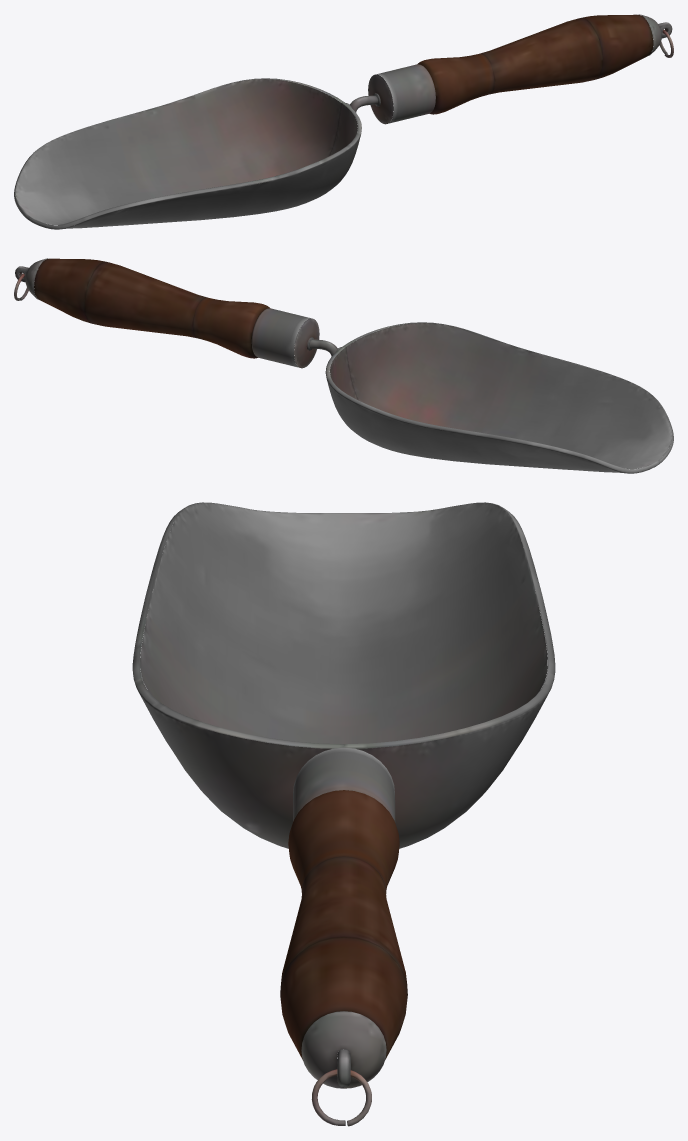
File: obj_grain_scoop.glb
3 views of the same model, one above another, from view 1: azimuth 30°, elevation 25°; view 2: azimuth 150°, elevation 25°; view 3: azimuth 270°, elevation 25° (orthographic). The views are drawn at different scales.
Parts seen in each view (by area): view 1: Object_2; view 2: Object_2; view 3: Object_2.
Part boxes in pixels (x1,y1,x2,y2): Object_2: (14, 14, 673, 229); Object_2: (14, 258, 673, 473); Object_2: (132, 502, 555, 1126).
Size of the model in its own units: 0.35 by 0.0543 by 0.0995.
Materials: 1 (1 with a texture image).
